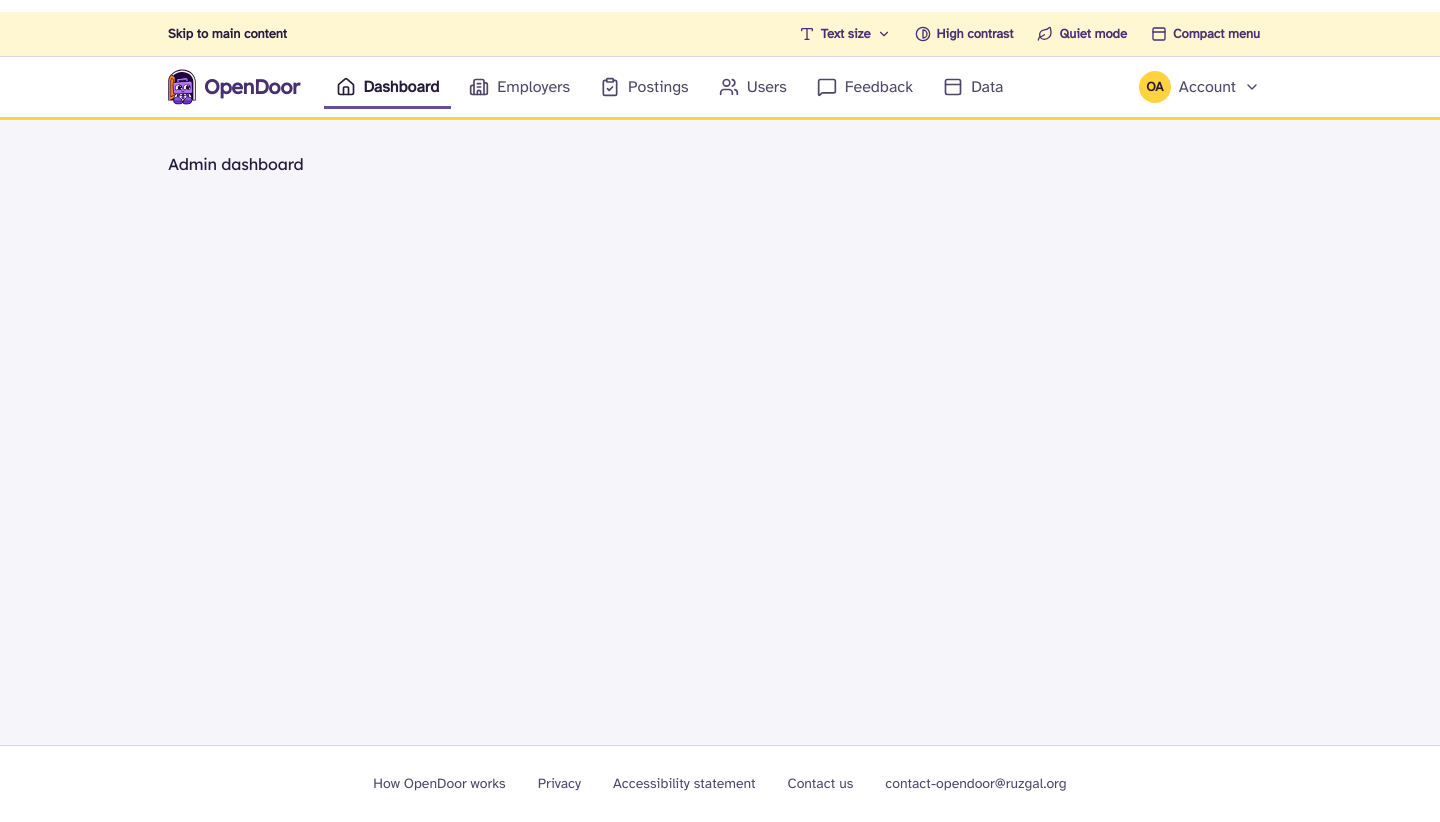
Test: PortalLayout › opens the account menu in one click and closes it with Escape (UI_FEEDBACK_PLAN §3.2)
Click the button "OA Account": (1199, 87) [1127,65,1272,109]
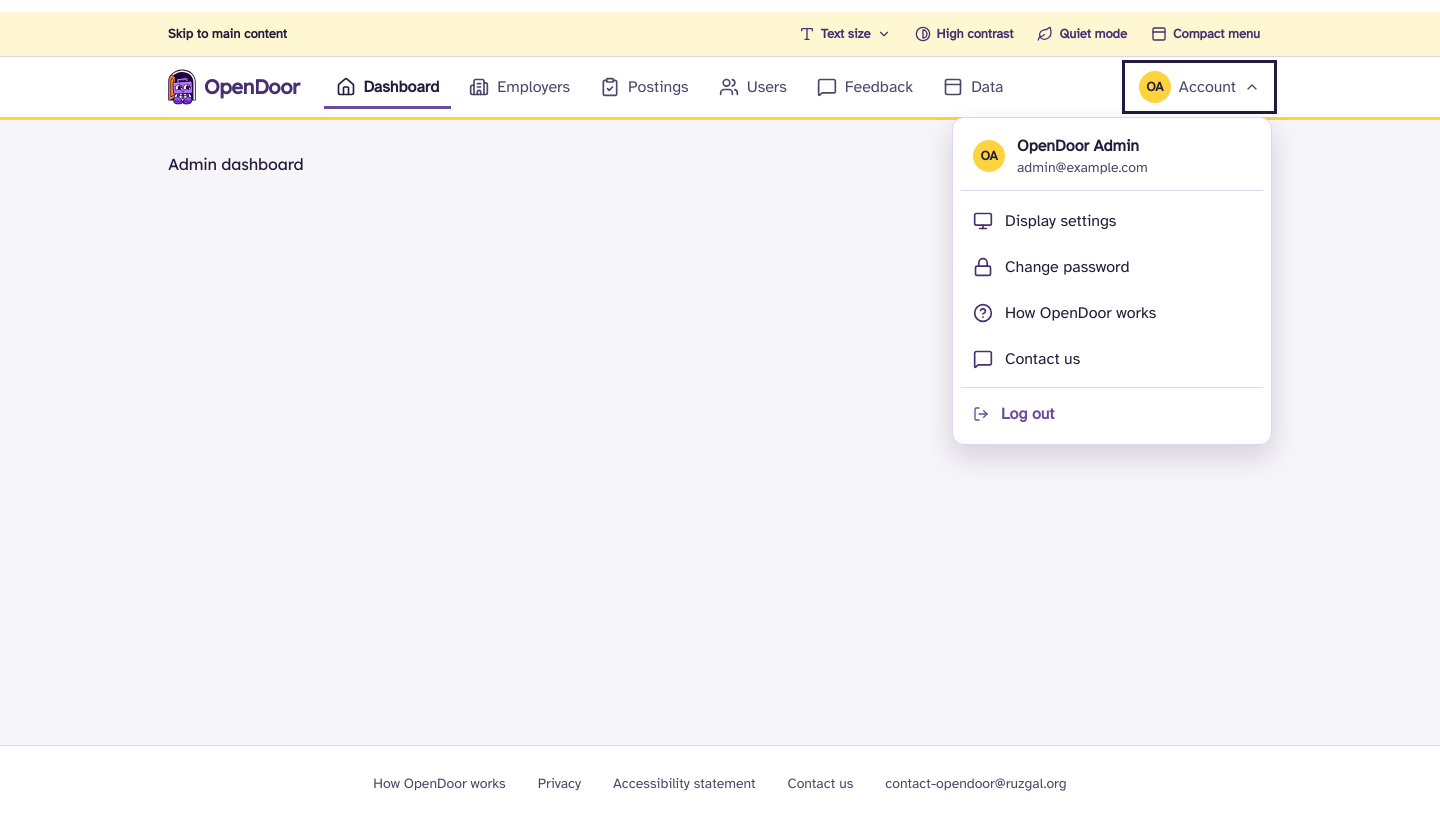
Check: the button "OA Account" is expanded, box [1127,65,1272,109]
Check: the text "admin@example.com" is shown, box [1017,158,1148,178]
Press Escape
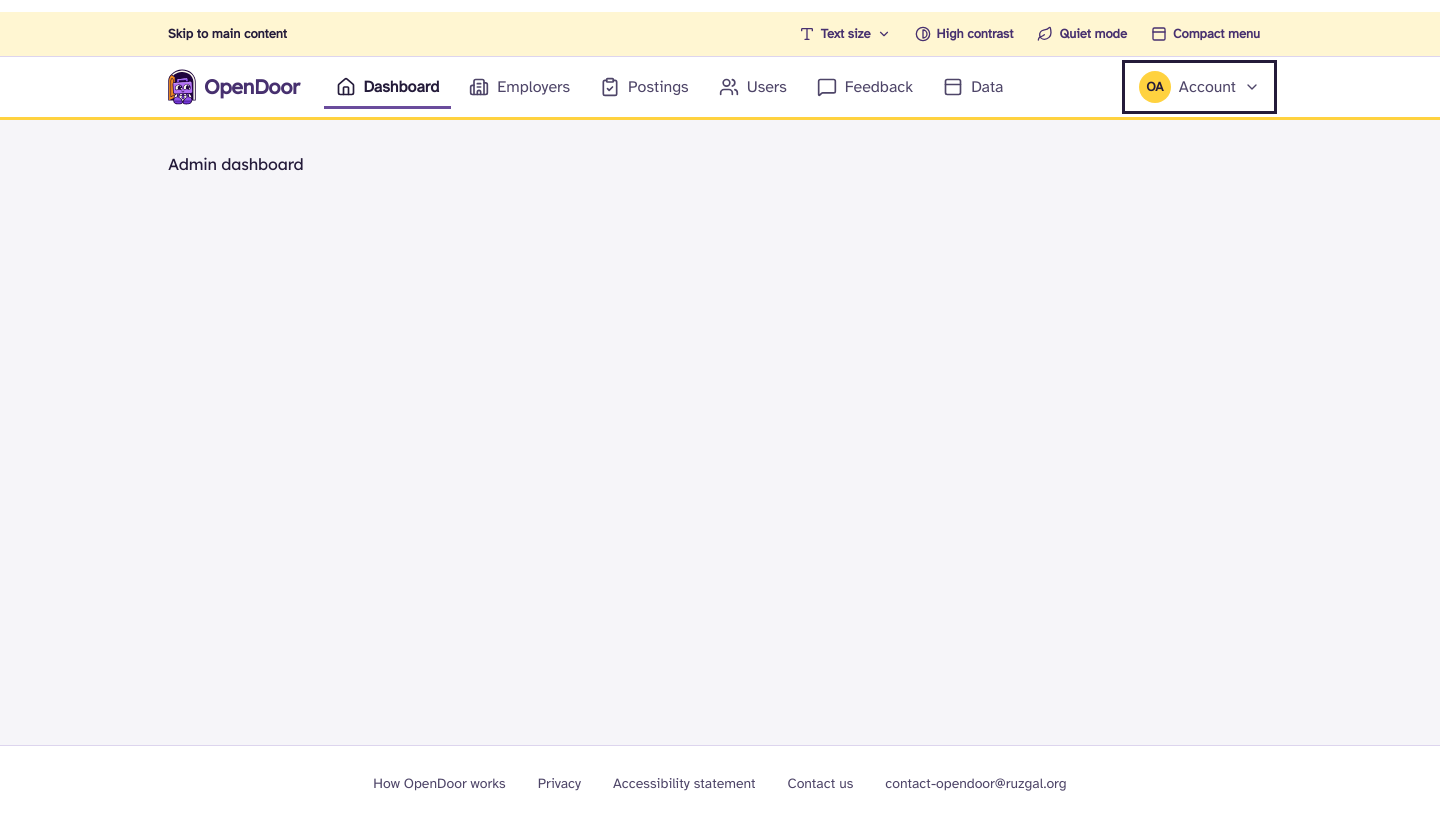
Check: the button "OA Account" is collapsed, box [1127,65,1272,109]
